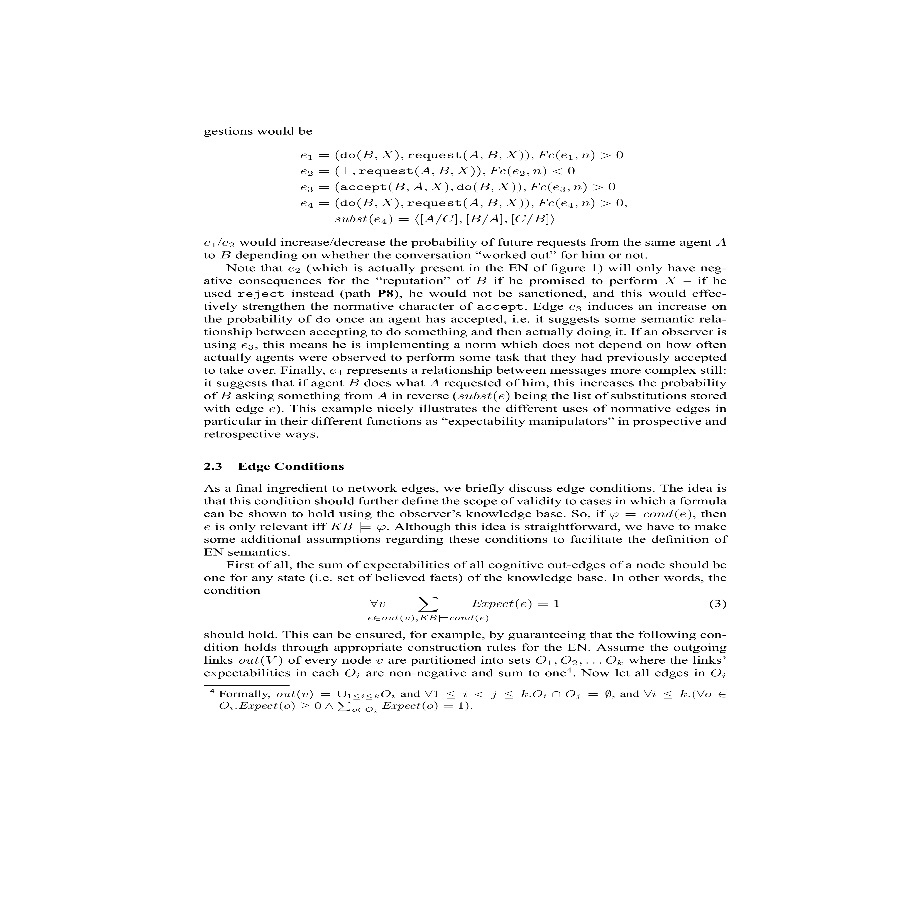eq: (299, 146, 638, 230), (367, 592, 569, 623)
